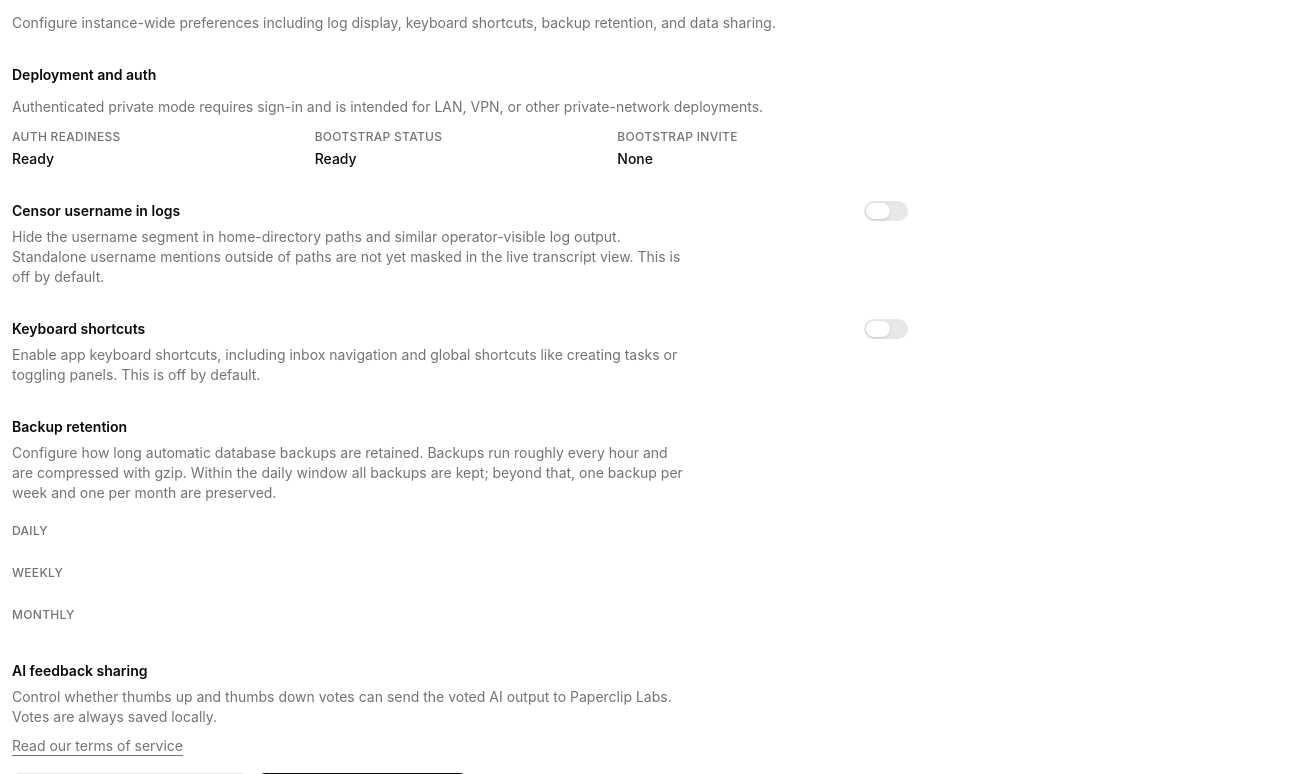
Test case: InstanceGeneralSettings sign-out › disables sign-out while a settings update is pending
Click the switch named "Toggle keyboard shortcuts": x=886, y=329 [864,319,908,339]
(page scrolled)
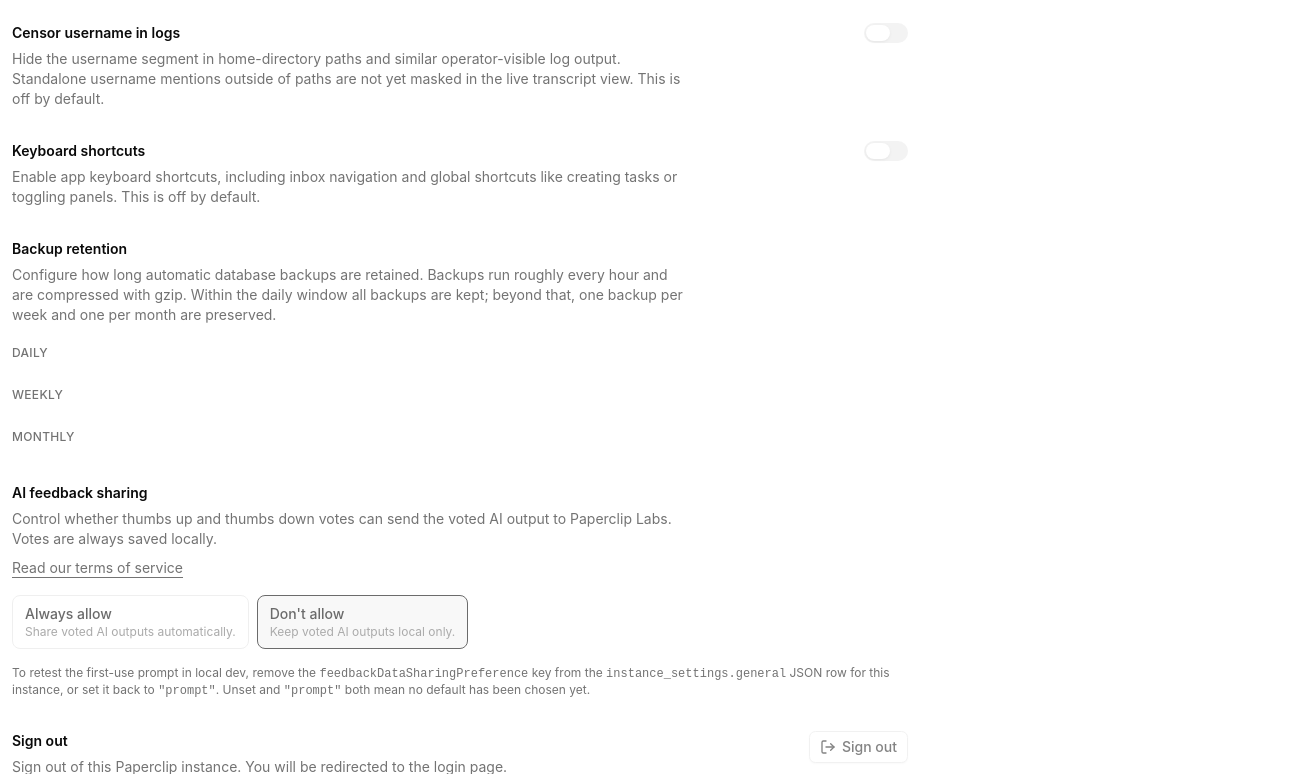
Expected: the button "Sign out" is disabled
Click the button "Sign out": x=858, y=747 [809,731,908,763]
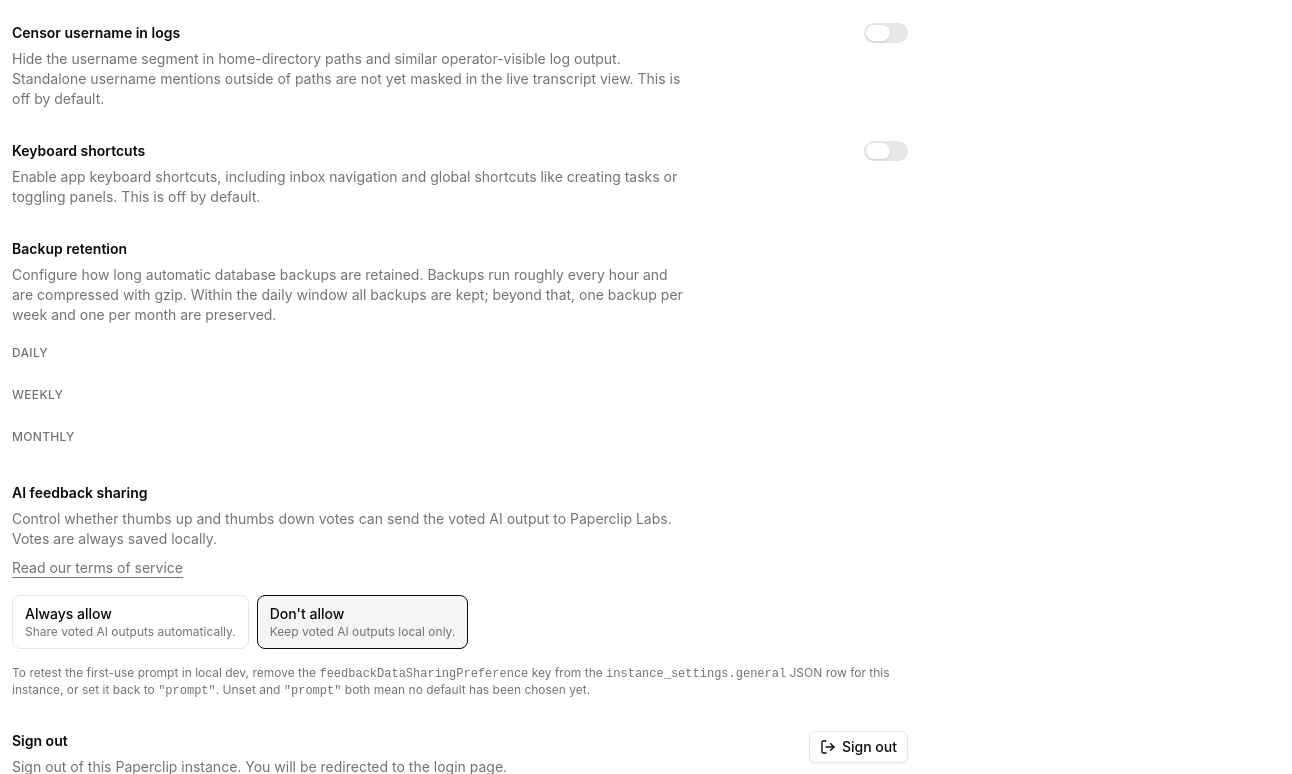
Expected: the button "Sign out" is enabled, [809,731,908,763]
